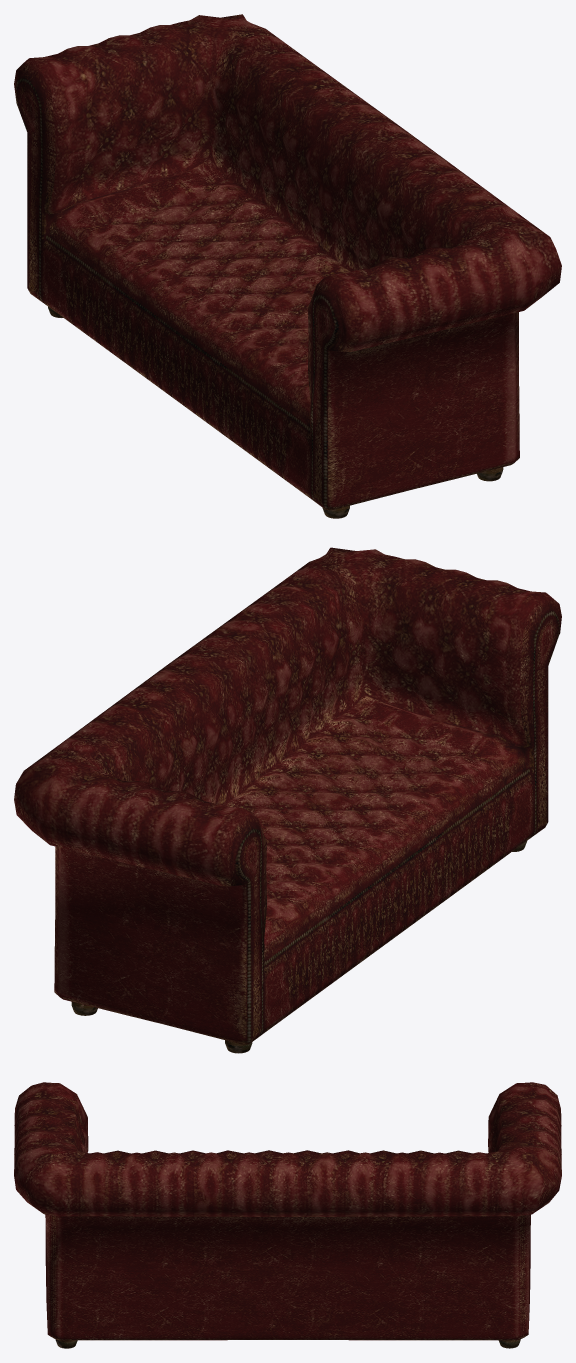
Rendered from SM_ChesterfieldSofa.FBX.
3 views of the same model, one above another, from view 1: azimuth 30°, elevation 25°; view 2: azimuth 150°, elevation 25°; view 3: azimuth 270°, elevation 25° (orthographic). The views are drawn at different scales.
Visible parts, largest first — view 1: SM_ChesterfieldSofa_LOD0; view 2: SM_ChesterfieldSofa_LOD0; view 3: SM_ChesterfieldSofa_LOD0.
Boxes of the visible parts, <box> form: SM_ChesterfieldSofa_LOD0: <box>14,14,561,518</box>; SM_ChesterfieldSofa_LOD0: <box>14,547,561,1053</box>; SM_ChesterfieldSofa_LOD0: <box>14,1082,561,1348</box>.
Size of what is drawn, in the model's own units: 108 by 107 by 266.
